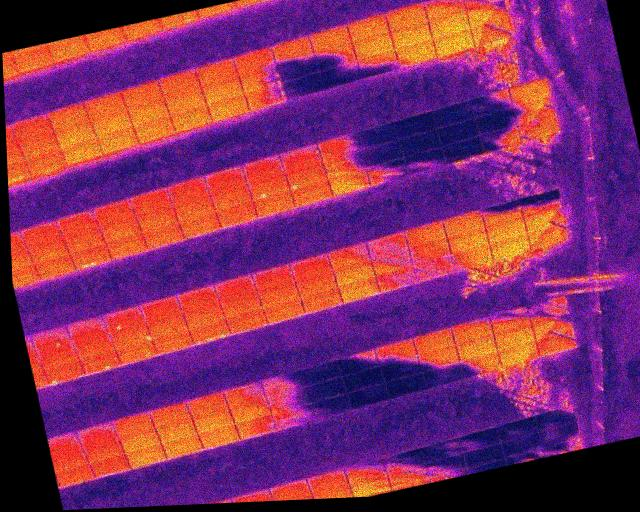Diode: (184, 315, 235, 349), (67, 240, 116, 273), (7, 155, 31, 190)
Hotspot: (243, 169, 295, 203)
Shadow: (396, 125, 446, 162), (418, 358, 470, 392), (334, 345, 384, 379), (436, 114, 484, 148), (341, 361, 389, 395)
